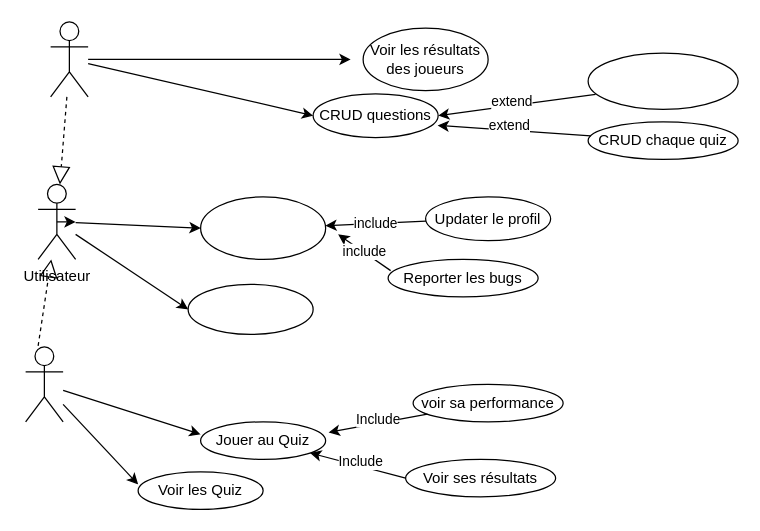
Image size: 760x531. Some labels were removed from this diagram. Each missing label, with the centre of its shape:
"Authentification" belongs at [262,227].
"Inscription" belongs at [250,308].
"Joeur" belongs at [43,384].
"Moderateur" belongs at [68,59].
"télécharger les quiz de fichier Excel" belongs at [662,80].
